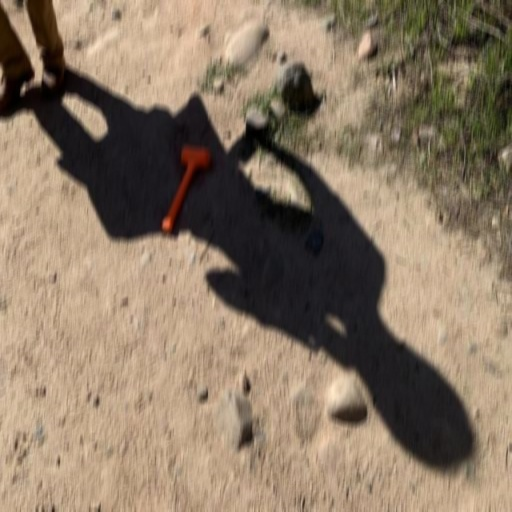mallet: (160, 144, 213, 236)
